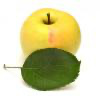Apple leaf: (19, 47, 85, 92)
